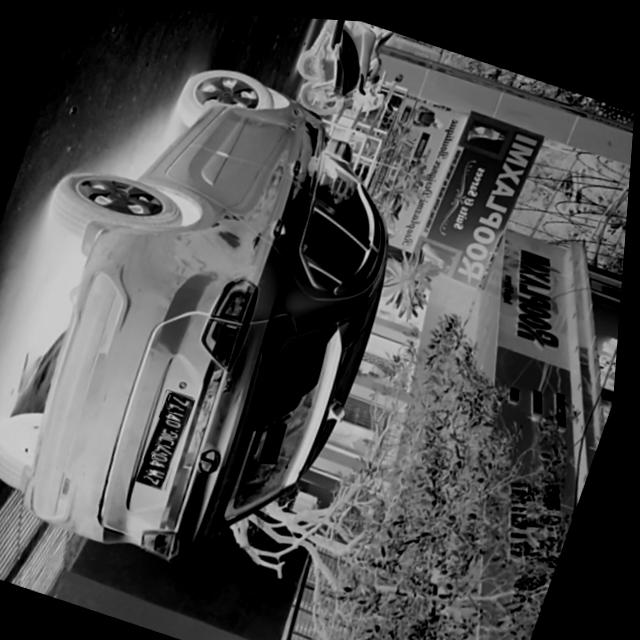0: (157, 449, 175, 460)
1: (171, 398, 191, 411)
4: (166, 407, 189, 420)
7: (172, 391, 193, 403), (160, 441, 180, 452)
9: (166, 415, 186, 428)
C: (161, 432, 182, 445)
G: (166, 424, 184, 436)
IND: (149, 471, 174, 486)
Indian_registered: (142, 389, 198, 485)
M: (151, 464, 173, 479)
P: (151, 454, 176, 469)
